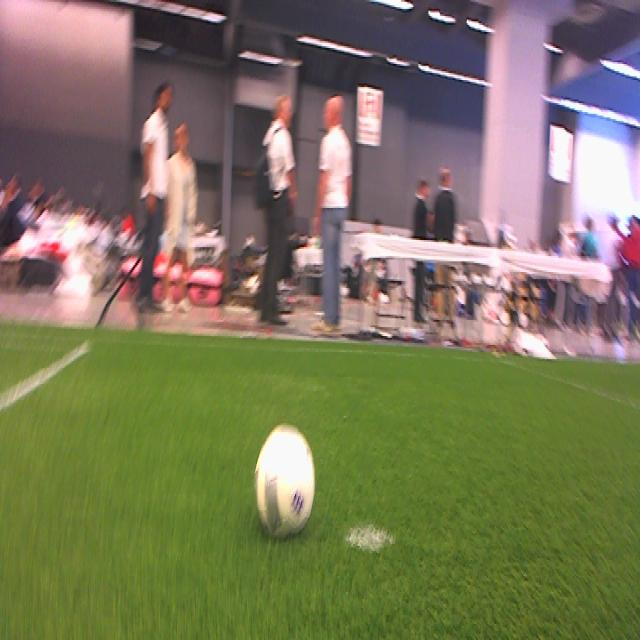ball: (253, 427, 317, 535)
